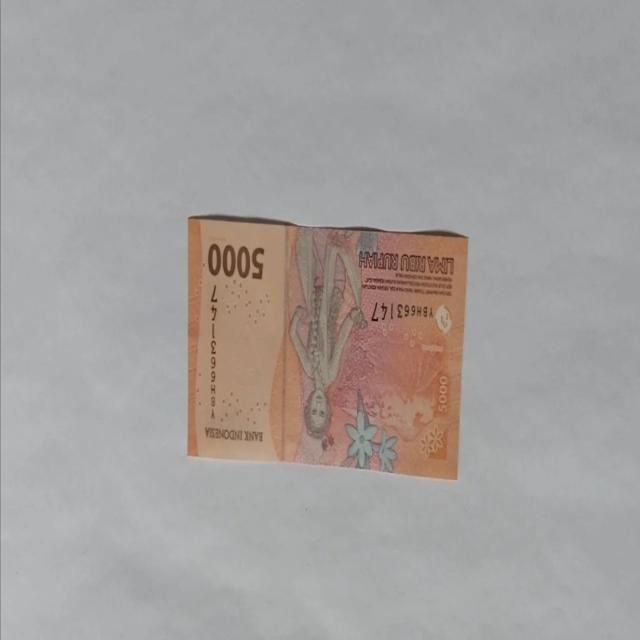lima ribu rupiah: (186, 212, 469, 480)
